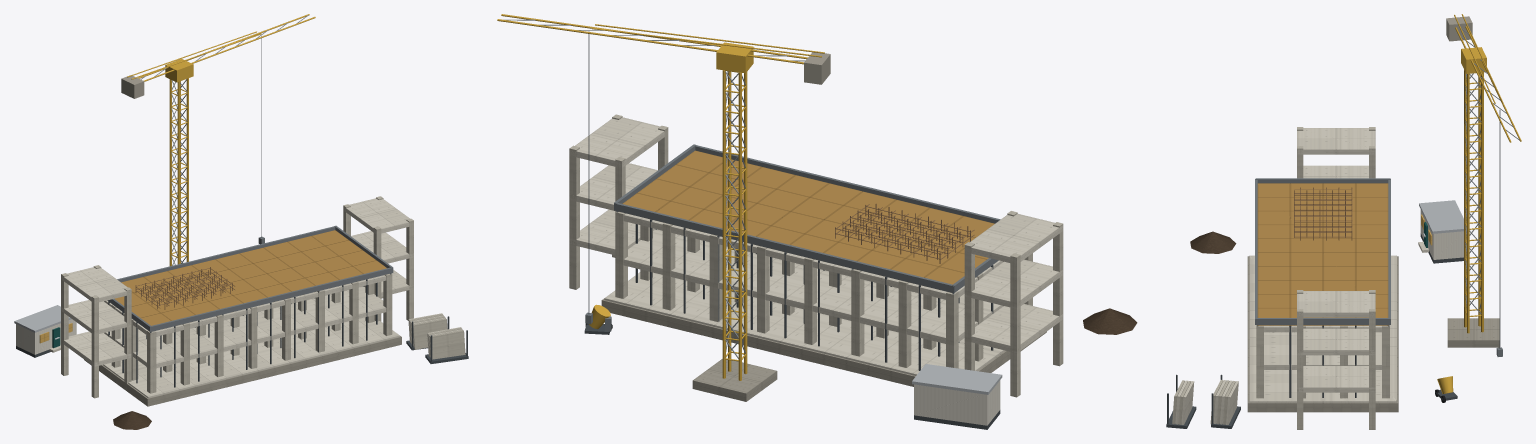
File: fun-9-construction.glb
The picture shows the model from 3 angles, left to right: view 1: azimuth 30°, elevation 25°; view 2: azimuth 150°, elevation 25°; view 3: azimuth 270°, elevation 25°; orthographic projection. The views are drawn at different scales.
Bounding box in the file's own units: 35.11 × 24.55 × 27.07.
24 materials, 15 textured.
